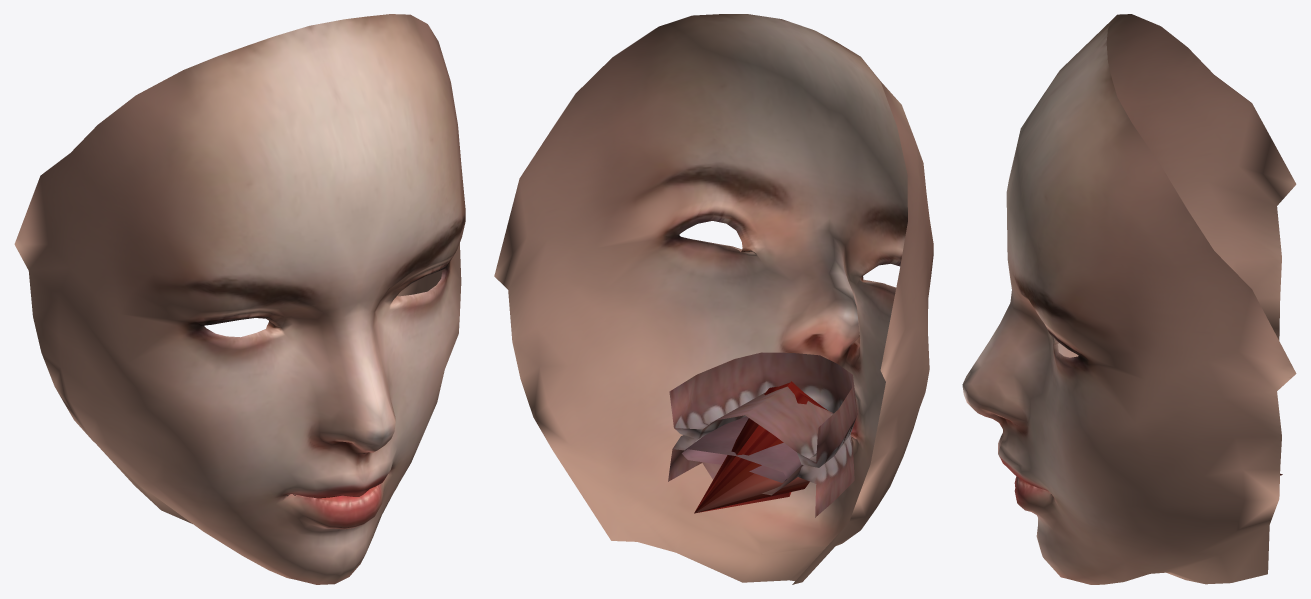
3 renders of one model, left to right at view 1: azimuth 30°, elevation 25°; view 2: azimuth 150°, elevation 25°; view 3: azimuth 270°, elevation 25°, orthographic. The views are drawn at different scales.
Parts seen in each view (by area): view 1: face4.001; view 2: face4.001; view 3: face4.001.
Part boxes in pixels (x1,y1,x2,y2): face4.001: (14, 14, 465, 584); face4.001: (494, 14, 933, 584); face4.001: (962, 14, 1296, 584).
Size of the model in its own units: 11.54 by 15.27 by 8.6.
1 material, 1 textured.
